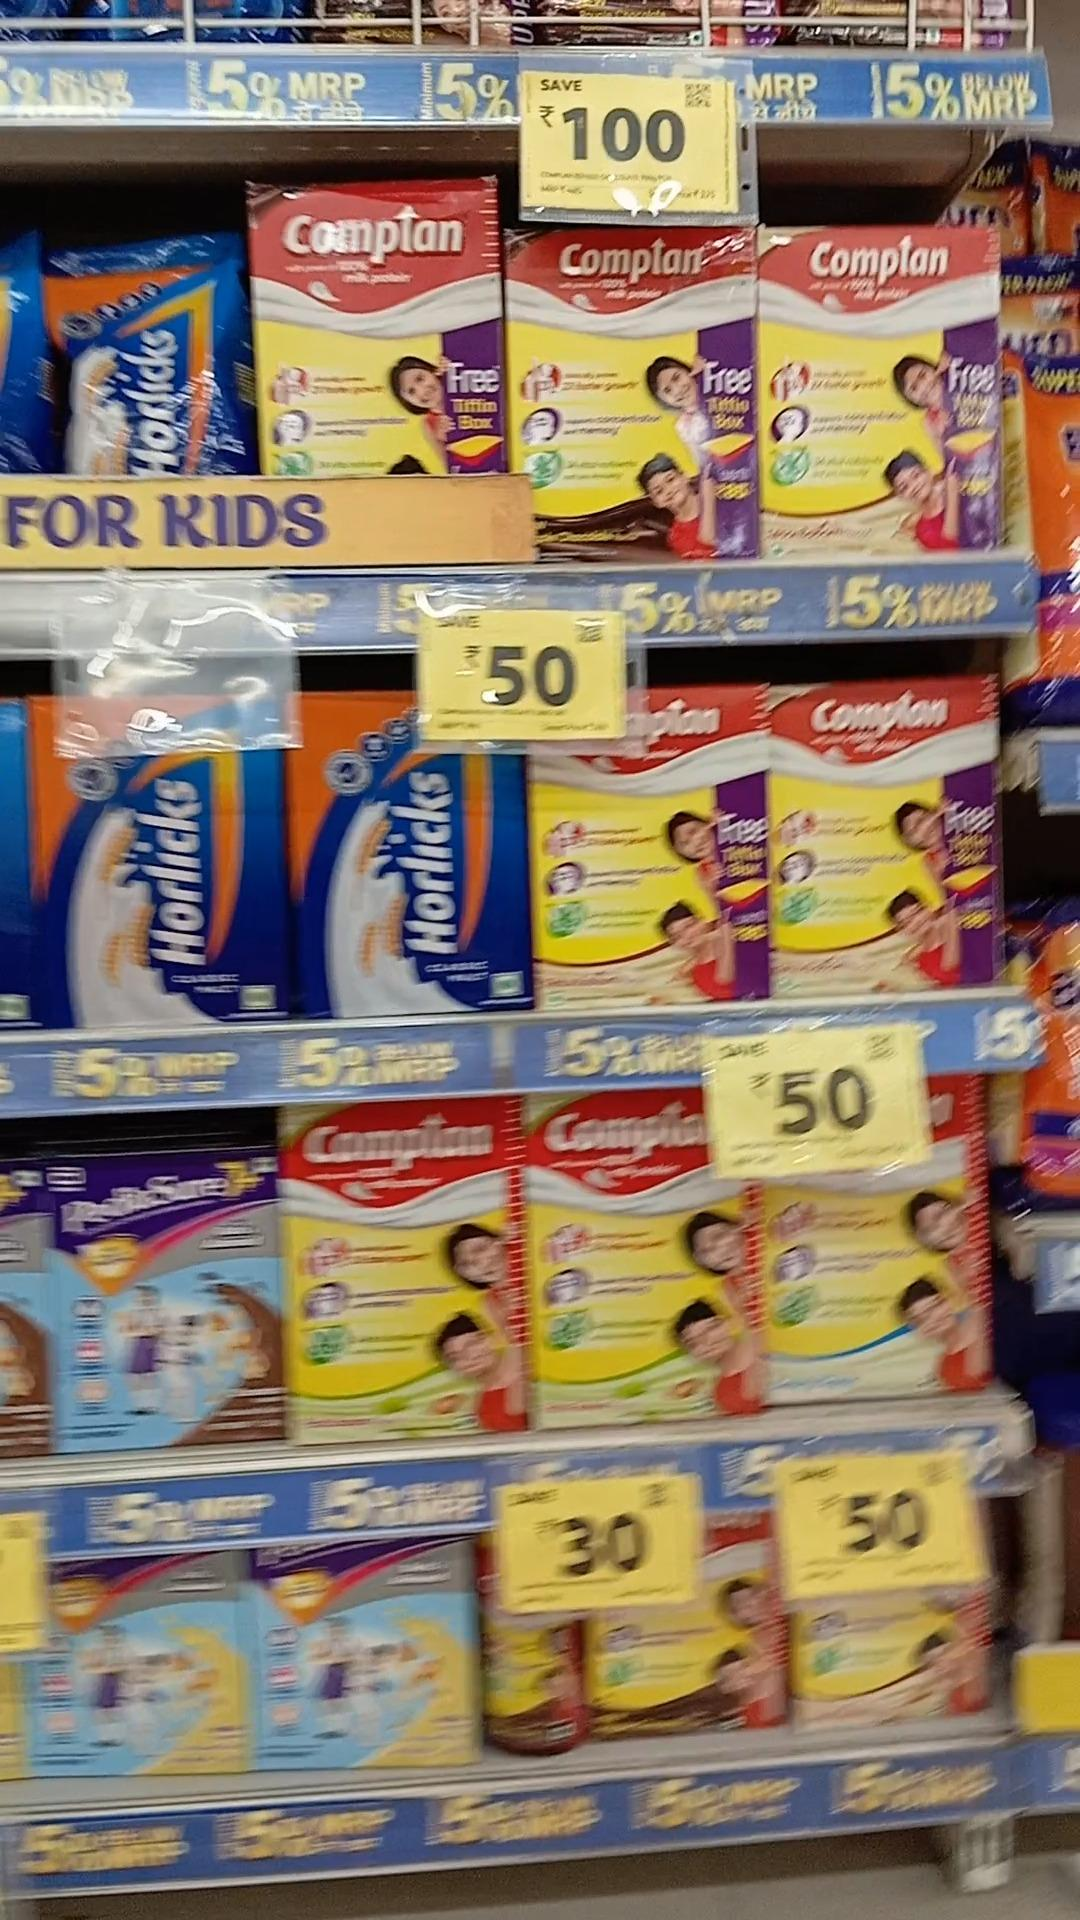COMPLAN_CHOCOLATE_500_GMS_PACK: (506, 229, 760, 563)
COMPLAN_KESAR_BADAM_500_GMS_PACK: (767, 228, 1013, 553), (531, 686, 762, 998), (770, 683, 994, 985)
COMPLAN_PISTA_BADAM_500_GMS_PACK: (285, 1102, 526, 1448), (531, 1091, 758, 1427)
HORLICK_CLASSIC_MALT_500_G_PACK: (30, 692, 268, 1017), (278, 695, 522, 1010)
